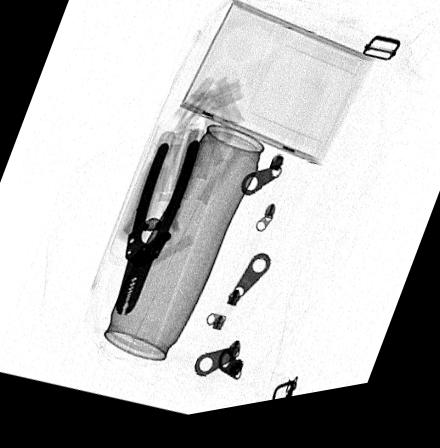Pliers: (112, 146, 201, 320)
